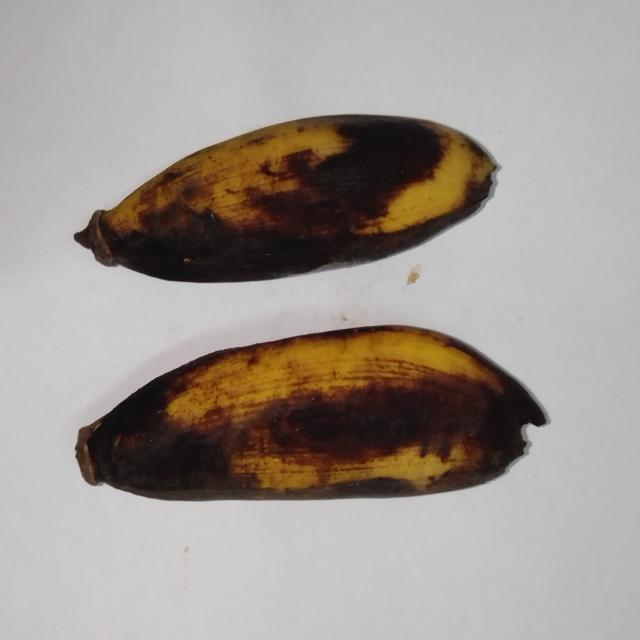banana: (77, 327, 545, 499), (75, 115, 495, 281)
